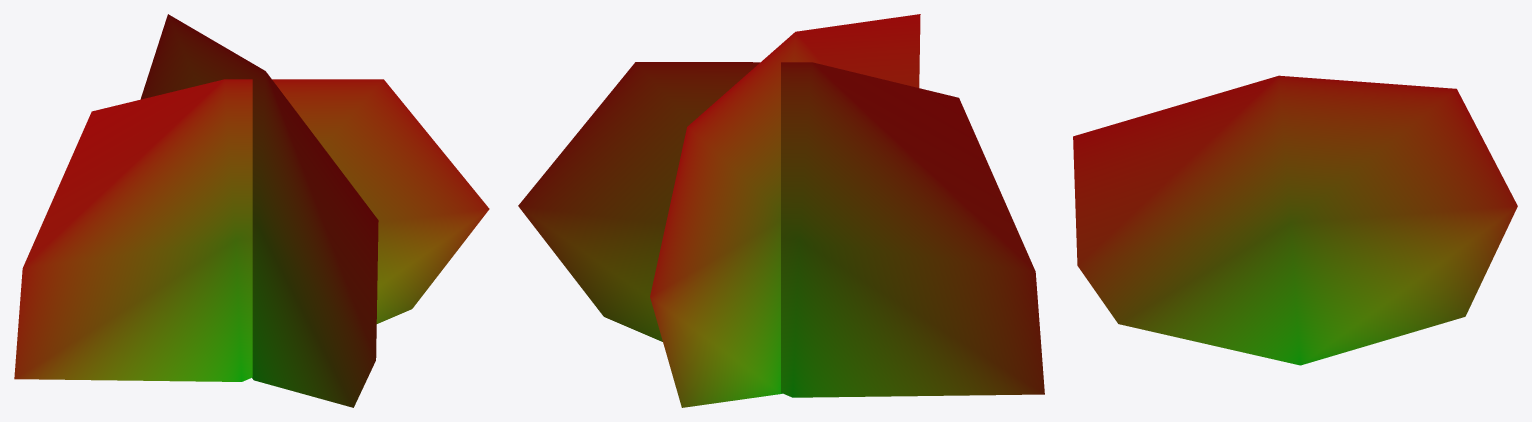
File: Downy Willow_LOD6_Var3_wknlfiuqx.fbx
The picture shows the model from 3 angles, left to right: view 1: azimuth 30°, elevation 25°; view 2: azimuth 150°, elevation 25°; view 3: azimuth 270°, elevation 25°; orthographic projection. The views are drawn at different scales.
Parts seen in each view (by area): view 1: _tn6o_Var3_LOD6; view 2: _tn6o_Var3_LOD6; view 3: _tn6o_Var3_LOD6.
Part boxes in pixels (x1=…): _tn6o_Var3_LOD6: x1=14, y1=14, x2=489, y2=407; _tn6o_Var3_LOD6: x1=518, y1=14, x2=1044, y2=407; _tn6o_Var3_LOD6: x1=1073, y1=75, x2=1517, y2=365.
Bounding box in the file's own units: 195 × 125 × 174.
